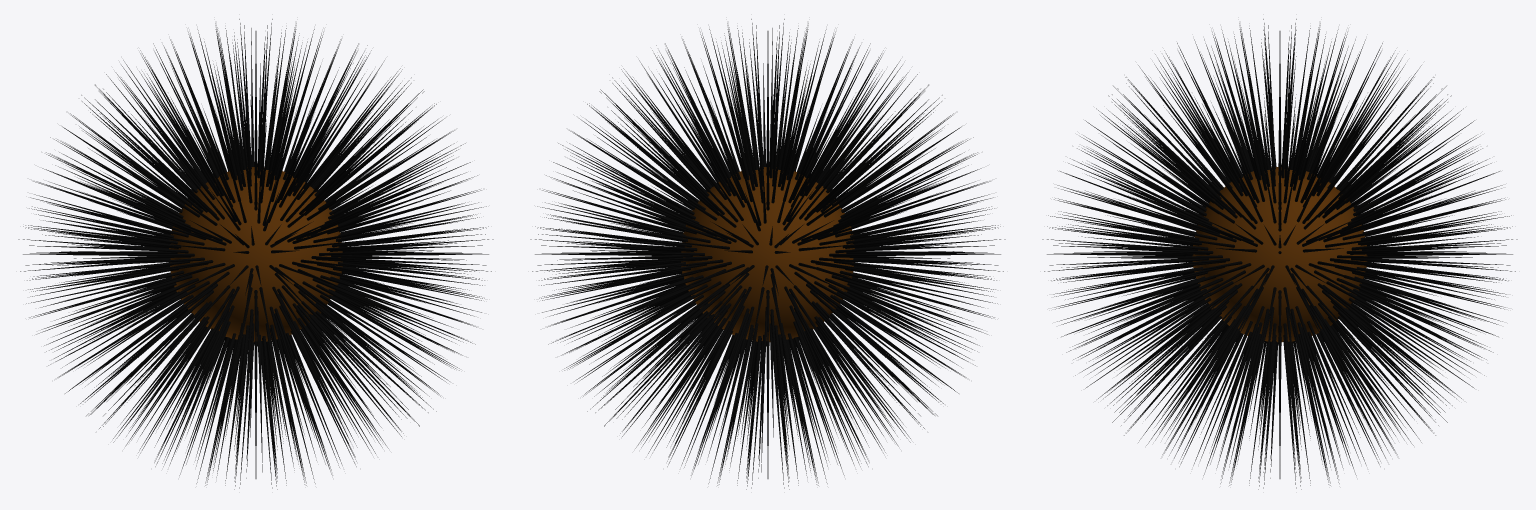
The model's file is kuri.fbx.
3 views of the same model, side by side, from view 1: azimuth 30°, elevation 25°; view 2: azimuth 150°, elevation 25°; view 3: azimuth 270°, elevation 25° (orthographic).
Parts seen in each view (by area): view 1: 中身, 棘6, 棘7, 棘8, 棘5, 棘4, 棘9, 棘3, 棘10, 棘11, 棘2, 棘12 (+1 smaller); view 2: 中身, 棘6, 棘7, 棘8, 棘5, 棘4, 棘9, 棘3, 棘10, 棘11, 棘2, 棘12 (+1 smaller); view 3: 中身, 棘6, 棘7, 棘5, 棘9, 棘8, 棘4, 棘3, 棘10, 棘2, 棘11, 棘12 (+1 smaller).
Boxes of the visible parts, bbox=[...] form: 中身: bbox=[169, 167, 342, 341]; 棘6: bbox=[25, 94, 486, 312]; 棘7: bbox=[18, 146, 493, 366]; 棘8: bbox=[26, 226, 484, 419]; 棘5: bbox=[46, 57, 466, 253]; 棘4: bbox=[79, 28, 434, 231]; 棘9: bbox=[46, 273, 463, 459]; 棘3: bbox=[121, 19, 390, 210]; 棘10: bbox=[83, 305, 429, 483]; 棘11: bbox=[130, 325, 381, 488]; 棘2: bbox=[177, 25, 334, 190]; 棘12: bbox=[186, 337, 325, 489]; 中身: bbox=[681, 167, 854, 341]; 棘6: bbox=[537, 94, 998, 312]; 棘7: bbox=[530, 146, 1005, 366]; 棘8: bbox=[539, 226, 997, 419]; 棘5: bbox=[557, 57, 977, 253]; 棘4: bbox=[589, 28, 944, 231]; 棘9: bbox=[560, 273, 977, 459]; 棘3: bbox=[633, 19, 902, 210]; 棘10: bbox=[594, 305, 940, 483]; 棘11: bbox=[642, 325, 893, 488]; 棘2: bbox=[689, 25, 846, 190]; 棘12: bbox=[698, 337, 837, 489]; 中身: bbox=[1192, 167, 1367, 342]; 棘6: bbox=[1048, 94, 1511, 311]; 棘7: bbox=[1042, 146, 1517, 366]; 棘5: bbox=[1068, 56, 1491, 253]; 棘9: bbox=[1072, 276, 1487, 451]; 棘8: bbox=[1053, 217, 1506, 418]; 棘4: bbox=[1100, 30, 1459, 231]; 棘3: bbox=[1145, 19, 1414, 209]; 棘10: bbox=[1107, 309, 1452, 476]; 棘2: bbox=[1201, 25, 1358, 190]; 棘11: bbox=[1154, 325, 1405, 488]; 棘12: bbox=[1210, 338, 1349, 489].
Bounding box in the file's own units: 220 × 220 × 220.
